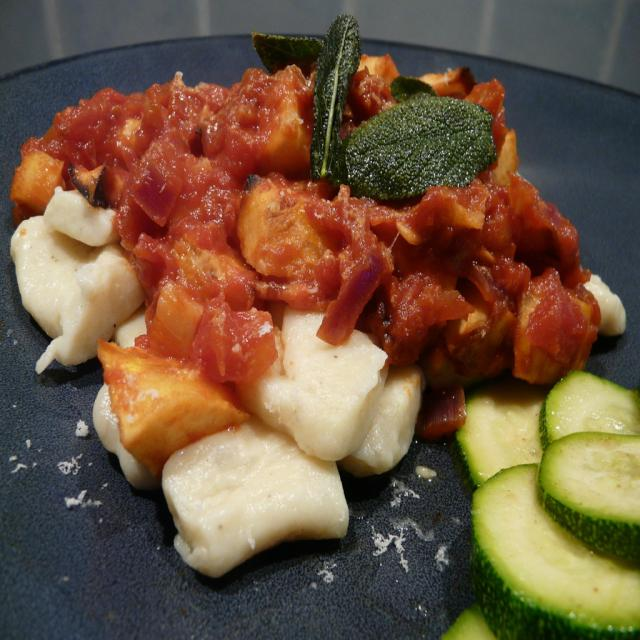Zucchini: (447, 367, 636, 640)
